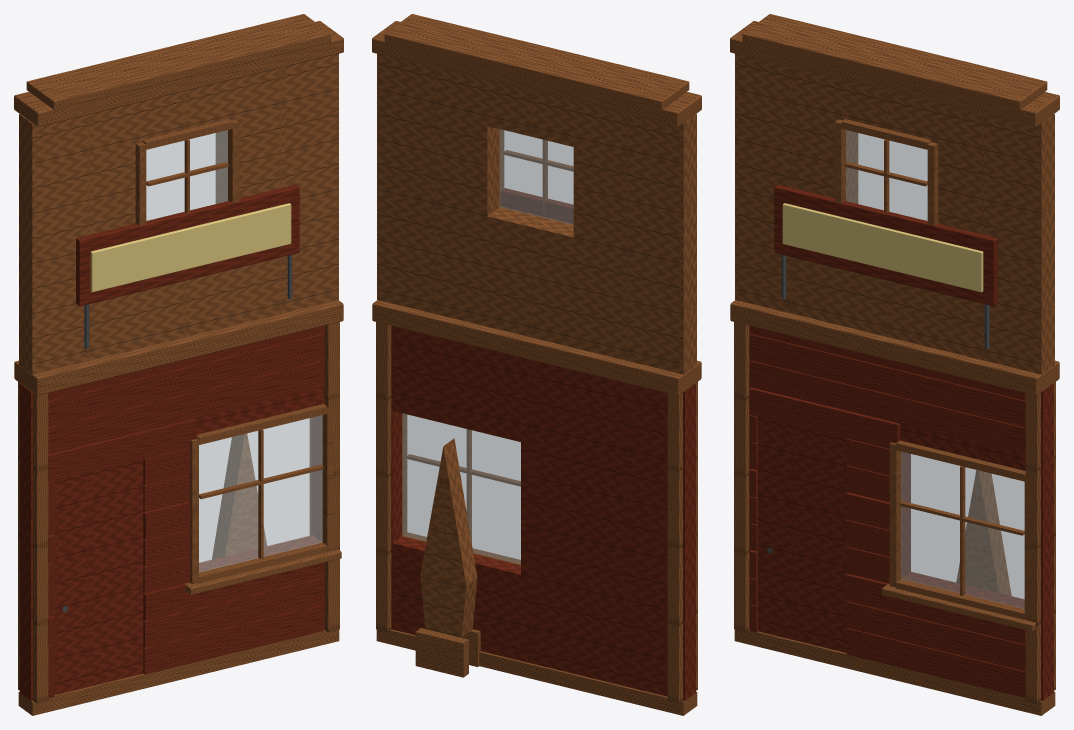
Rendered from wild-west-frontier-town-undertaker-facade-bay-ab636d1a__30125.glb.
3 renders of one model, left to right at view 1: azimuth 30°, elevation 25°; view 2: azimuth 150°, elevation 25°; view 3: azimuth 330°, elevation 25°, orthographic.
Visible parts, largest first — view 1: undertaker-facade-bay; view 2: undertaker-facade-bay; view 3: undertaker-facade-bay.
Boxes of the visible parts, <box> form: undertaker-facade-bay: <box>14,14,343,715</box>; undertaker-facade-bay: <box>372,14,701,715</box>; undertaker-facade-bay: <box>730,14,1059,715</box>.
Bounding box in the file's own units: 3.2 × 6.14 × 0.6596.
5 materials, 2 textured.
